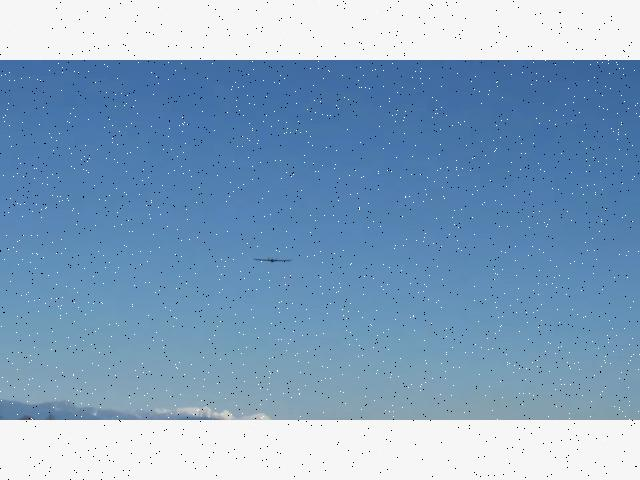Anti-Drone: (244, 248, 298, 272)
